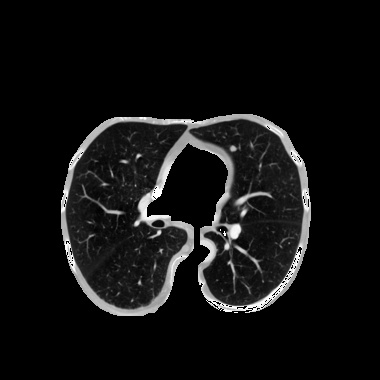PN: (229, 144, 237, 152)
